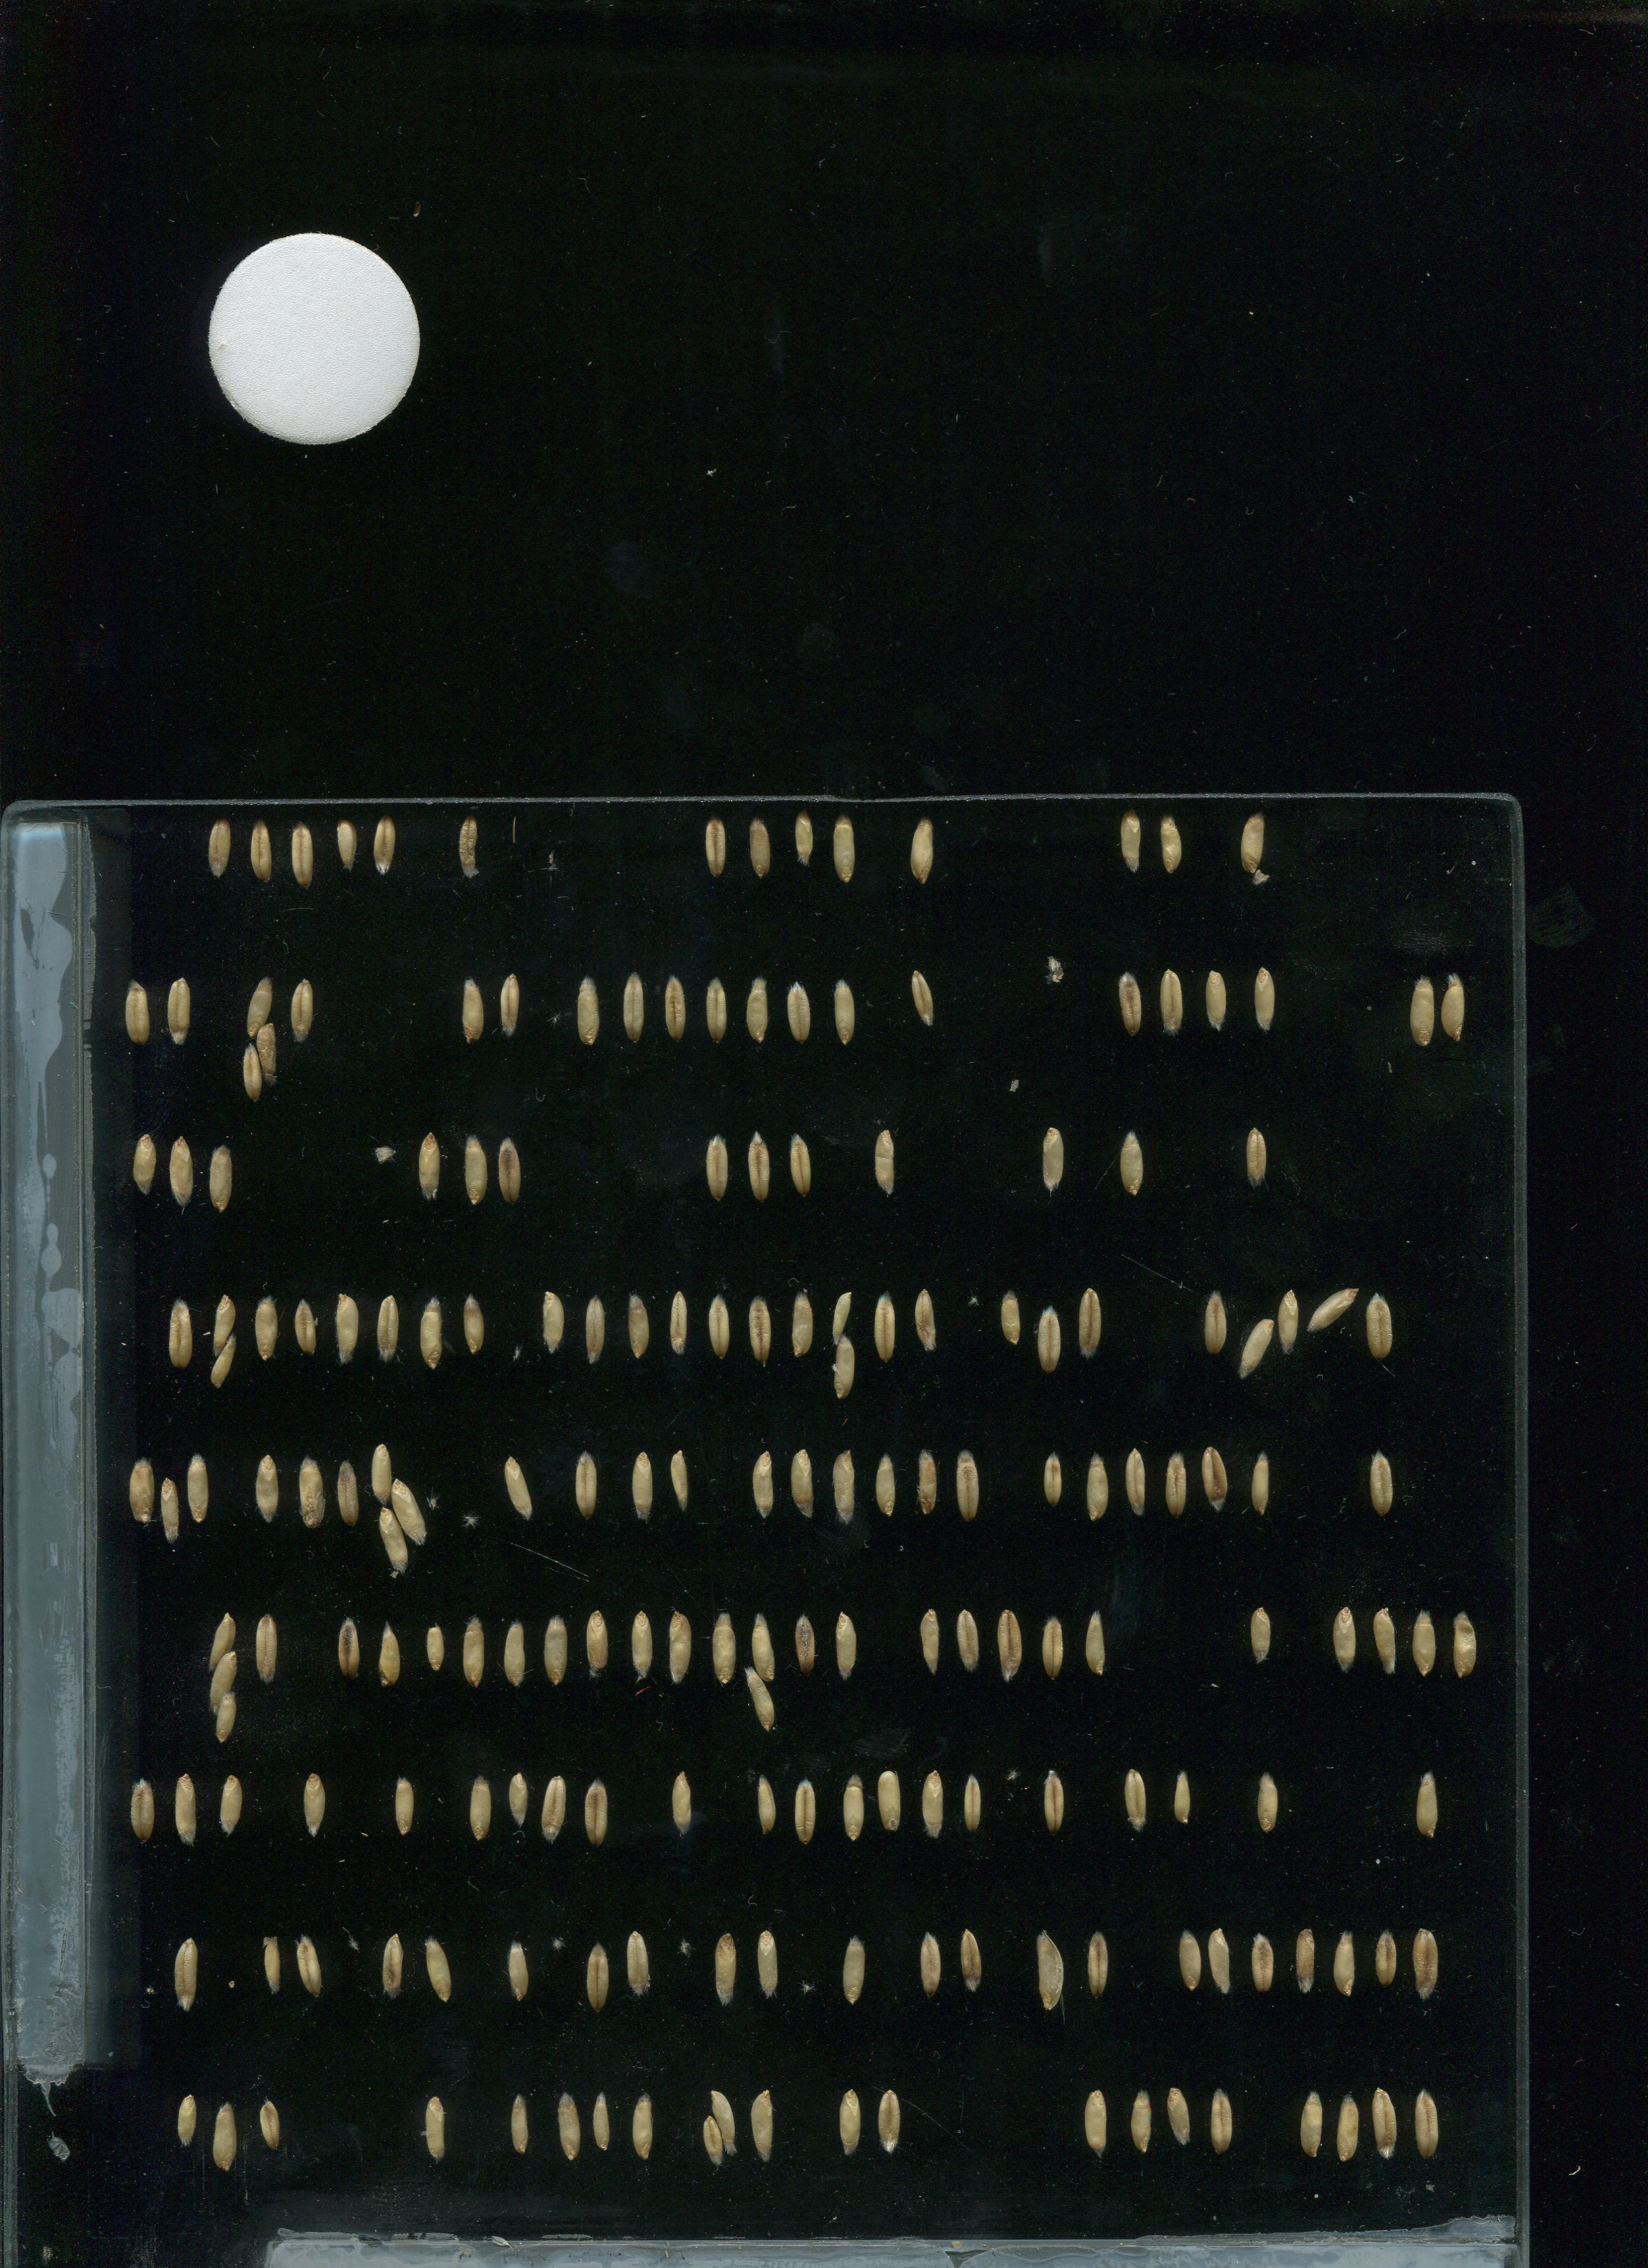BrokenGrain: (454, 814, 488, 882)
NakedGrain: (1032, 1928, 1069, 2014), (387, 1474, 430, 1548), (745, 1606, 784, 1685), (375, 1500, 410, 1583), (1305, 1284, 1361, 1333), (206, 1650, 243, 1720), (706, 2083, 739, 2161), (743, 1666, 780, 1734), (171, 1930, 201, 2013), (1410, 1768, 1444, 1842), (121, 976, 153, 1053), (701, 1129, 732, 1206), (416, 1296, 447, 1373), (787, 1446, 819, 1523), (1120, 1446, 1151, 1523), (953, 1604, 984, 1682), (664, 1608, 695, 1685), (250, 1611, 282, 1689), (127, 1775, 158, 1852), (1329, 1925, 1361, 2002), (1078, 2083, 1109, 2161), (836, 1932, 868, 2009), (622, 1928, 653, 2006), (747, 2087, 778, 2164), (1238, 1319, 1278, 1379), (285, 819, 319, 891), (658, 970, 690, 1046), (129, 1125, 160, 1201), (204, 1139, 236, 1215), (1116, 1125, 1148, 1201), (245, 970, 276, 1046), (743, 1291, 775, 1366), (292, 1287, 324, 1363), (1273, 1284, 1305, 1359), (153, 1474, 185, 1550), (296, 1454, 327, 1530), (333, 1453, 364, 1528), (829, 1447, 861, 1523), (1247, 1446, 1278, 1521), (1410, 1608, 1442, 1683), (1368, 1604, 1400, 1680), (1241, 1597, 1273, 1673), (1037, 1615, 1069, 1690), (991, 1608, 1023, 1683), (916, 1604, 947, 1680), (791, 1609, 822, 1685), (583, 1608, 614, 1683), (500, 1613, 532, 1689), (370, 1616, 401, 1692), (666, 1768, 697, 1844), (1120, 1761, 1151, 1837), (1410, 2088, 1442, 2164), (1296, 2088, 1328, 2164), (1081, 1926, 1113, 2002), (292, 1928, 324, 2004), (210, 2097, 241, 2173), (907, 814, 937, 891), (1115, 965, 1144, 1042), (909, 963, 938, 1041), (745, 972, 775, 1049), (620, 970, 650, 1048), (743, 1129, 773, 1206), (703, 1289, 732, 1366), (331, 1289, 361, 1366), (167, 1296, 197, 1373), (254, 1447, 283, 1525), (750, 1447, 780, 1525), (912, 1446, 942, 1523), (1085, 1447, 1115, 1525), (1162, 1446, 1192, 1523), (541, 1611, 570, 1689), (331, 1611, 361, 1689), (840, 1770, 870, 1847), (958, 1764, 988, 1842), (1370, 2087, 1400, 2164), (1129, 2083, 1159, 2161), (956, 1923, 986, 2000), (919, 1925, 949, 2002), (750, 1928, 780, 2006), (504, 1935, 533, 2013), (423, 1930, 452, 2007), (379, 1930, 408, 2007), (504, 2083, 533, 2161), (555, 2087, 585, 2164), (586, 2085, 616, 2162), (629, 2087, 658, 2164), (1115, 803, 1144, 879), (1153, 806, 1183, 882), (1236, 806, 1266, 882), (1438, 972, 1468, 1048), (1409, 972, 1438, 1048), (1250, 963, 1280, 1039), (1201, 963, 1231, 1039), (1157, 965, 1187, 1041), (831, 974, 861, 1049), (784, 974, 813, 1049), (703, 972, 732, 1048), (572, 976, 602, 1051), (495, 970, 525, 1046), (458, 972, 488, 1048), (285, 976, 315, 1051), (162, 974, 192, 1049), (166, 1136, 195, 1211), (412, 1130, 442, 1206), (460, 1132, 489, 1208), (495, 1132, 525, 1208), (782, 1129, 812, 1204), (872, 1125, 901, 1201), (1037, 1125, 1067, 1201), (1241, 1122, 1271, 1197), (1363, 1291, 1393, 1366), (1201, 1285, 1231, 1361), (1076, 1285, 1106, 1361), (1035, 1303, 1065, 1379), (872, 1287, 901, 1363), (662, 1287, 692, 1363), (622, 1287, 651, 1363), (460, 1285, 489, 1361), (578, 1291, 607, 1366), (537, 1284, 567, 1359), (372, 1291, 401, 1366), (250, 1289, 280, 1365), (784, 1289, 813, 1365), (910, 1284, 940, 1359), (127, 1456, 157, 1532), (183, 1451, 213, 1527), (502, 1451, 532, 1527), (569, 1446, 599, 1521), (629, 1449, 658, 1525), (666, 1446, 695, 1521), (870, 1449, 900, 1525), (953, 1451, 982, 1527), (1203, 1444, 1232, 1520), (1366, 1447, 1396, 1523), (1447, 1608, 1477, 1683), (1079, 1606, 1109, 1682), (1329, 1602, 1359, 1678), (833, 1611, 863, 1687), (710, 1611, 739, 1687), (625, 1609, 655, 1685), (460, 1613, 489, 1689), (173, 1775, 202, 1851), (215, 1771, 245, 1847), (298, 1770, 327, 1845), (389, 1770, 419, 1845), (467, 1770, 497, 1845), (539, 1771, 569, 1847), (583, 1775, 613, 1851), (791, 1773, 820, 1849), (873, 1768, 903, 1844), (916, 1766, 945, 1842), (1037, 1766, 1067, 1842), (1410, 1925, 1440, 2000), (1331, 2090, 1361, 2166), (1370, 1923, 1400, 1999), (1292, 1923, 1322, 1999), (1248, 1925, 1278, 2000), (1210, 1925, 1240, 2000), (1176, 1923, 1206, 1999), (1204, 2083, 1234, 2159), (1166, 2080, 1196, 2155), (711, 1930, 741, 2006), (581, 1940, 611, 2016), (259, 1930, 289, 2006), (254, 2085, 283, 2161), (173, 2081, 202, 2157), (421, 2090, 451, 2166), (835, 2083, 864, 2159), (872, 2083, 901, 2159), (828, 814, 859, 884), (206, 1606, 238, 1675), (210, 1291, 241, 1358), (750, 1770, 780, 1840), (236, 1037, 268, 1102), (1254, 1771, 1284, 1840), (1167, 1764, 1197, 1833), (366, 1435, 394, 1506), (1039, 1446, 1069, 1509), (246, 819, 275, 886), (331, 817, 359, 884), (370, 812, 398, 879), (701, 815, 729, 882), (747, 812, 775, 879), (208, 1337, 241, 1393), (828, 1285, 857, 1347), (697, 2115, 727, 2176), (789, 805, 819, 866), (206, 817, 234, 882), (831, 1335, 857, 1400), (419, 1620, 449, 1676), (213, 1692, 243, 1749), (254, 1021, 276, 1092), (1000, 1289, 1023, 1345)
